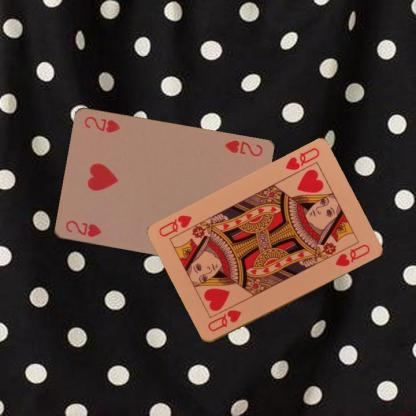2h: (222, 137, 263, 159), (62, 218, 103, 238)
Qh: (283, 145, 320, 172), (205, 308, 243, 334)
